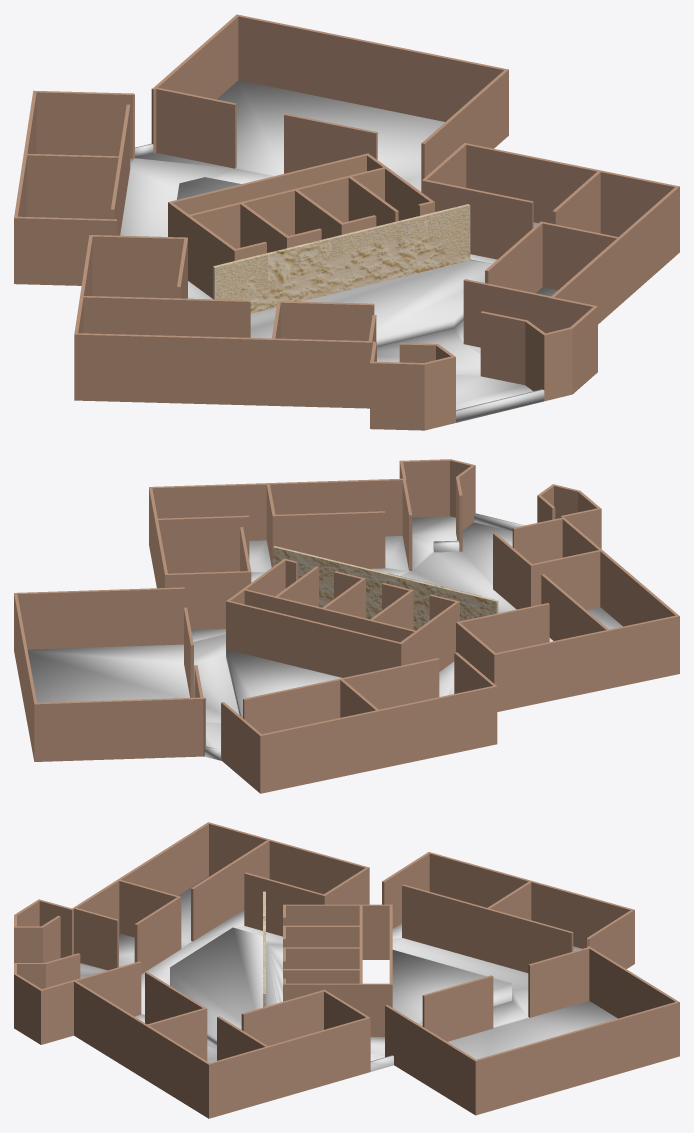
File: plano_texturas.dae
3 views of the same model, one above another, from view 1: azimuth 30°, elevation 25°; view 2: azimuth 150°, elevation 25°; view 3: azimuth 270°, elevation 25° (orthographic). The views are drawn at different scales.
Parts seen in each view (by area): view 1: plano_ensamble_piezas - PLANO_POSGRADO_Corregido_paredes-1, plano_ensamble_piezas - PLANO_POSGRADO_Corregido_piso-1; view 2: plano_ensamble_piezas - PLANO_POSGRADO_Corregido_paredes-1, plano_ensamble_piezas - PLANO_POSGRADO_Corregido_piso-1; view 3: plano_ensamble_piezas - PLANO_POSGRADO_Corregido_paredes-1, plano_ensamble_piezas - PLANO_POSGRADO_Corregido_piso-1.
Boxes of the visible parts, bbox=[...] form: plano_ensamble_piezas - PLANO_POSGRADO_Corregido_paredes-1: bbox=[14, 14, 679, 430]; plano_ensamble_piezas - PLANO_POSGRADO_Corregido_piso-1: bbox=[120, 80, 557, 422]; plano_ensamble_piezas - PLANO_POSGRADO_Corregido_paredes-1: bbox=[14, 459, 679, 793]; plano_ensamble_piezas - PLANO_POSGRADO_Corregido_piso-1: bbox=[27, 513, 622, 760]; plano_ensamble_piezas - PLANO_POSGRADO_Corregido_paredes-1: bbox=[14, 822, 679, 1118]; plano_ensamble_piezas - PLANO_POSGRADO_Corregido_piso-1: bbox=[80, 876, 617, 1071].
Size of the model in its own units: 28.85 by 33.46 by 3.
2 materials, 1 textured.
